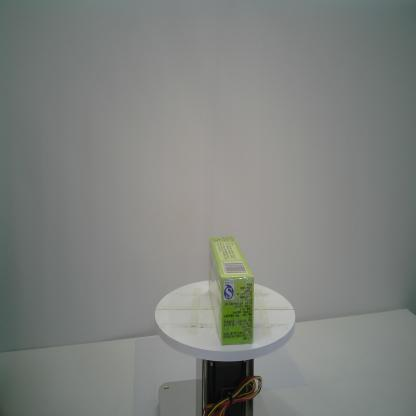Instant Drink: (207, 234, 255, 348)
